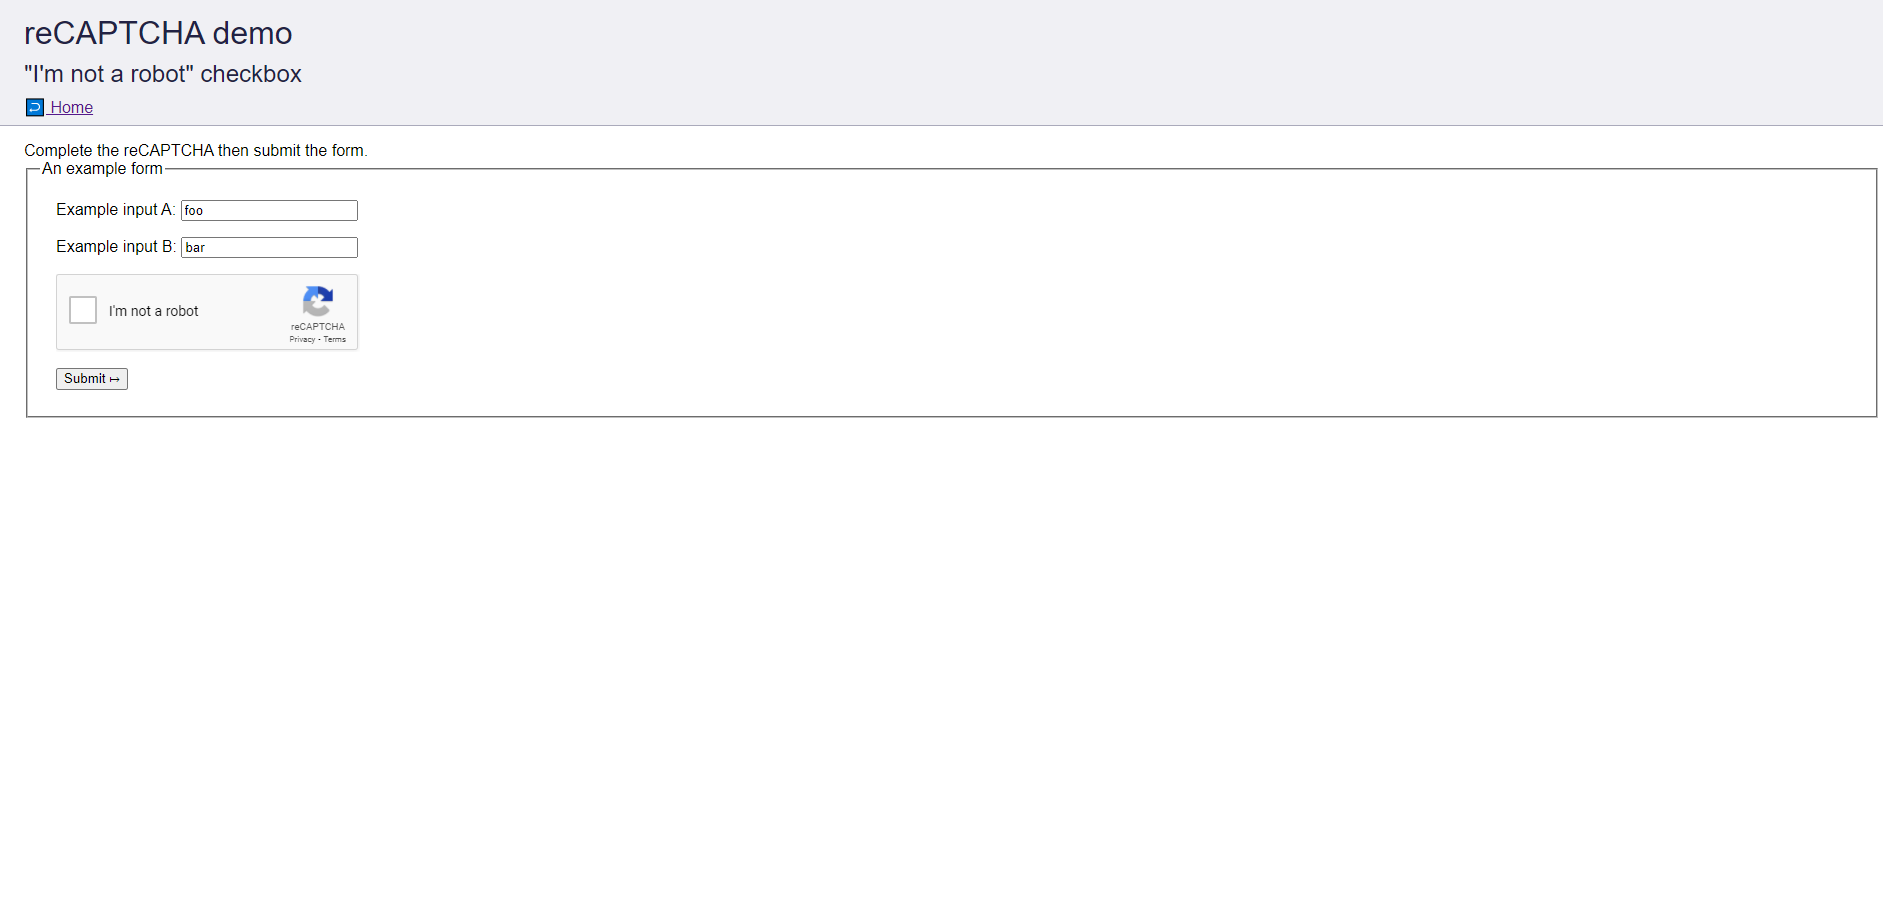captcha: (54, 272, 360, 350)
